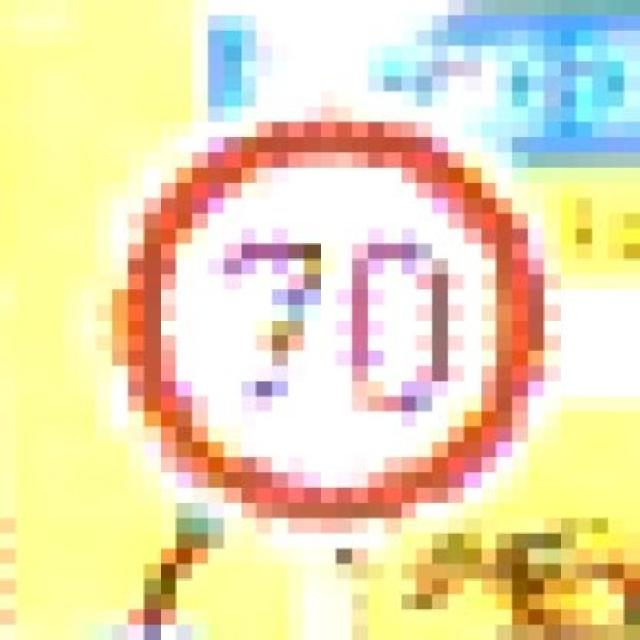forb_speed_over_70: (120, 118, 546, 525)
